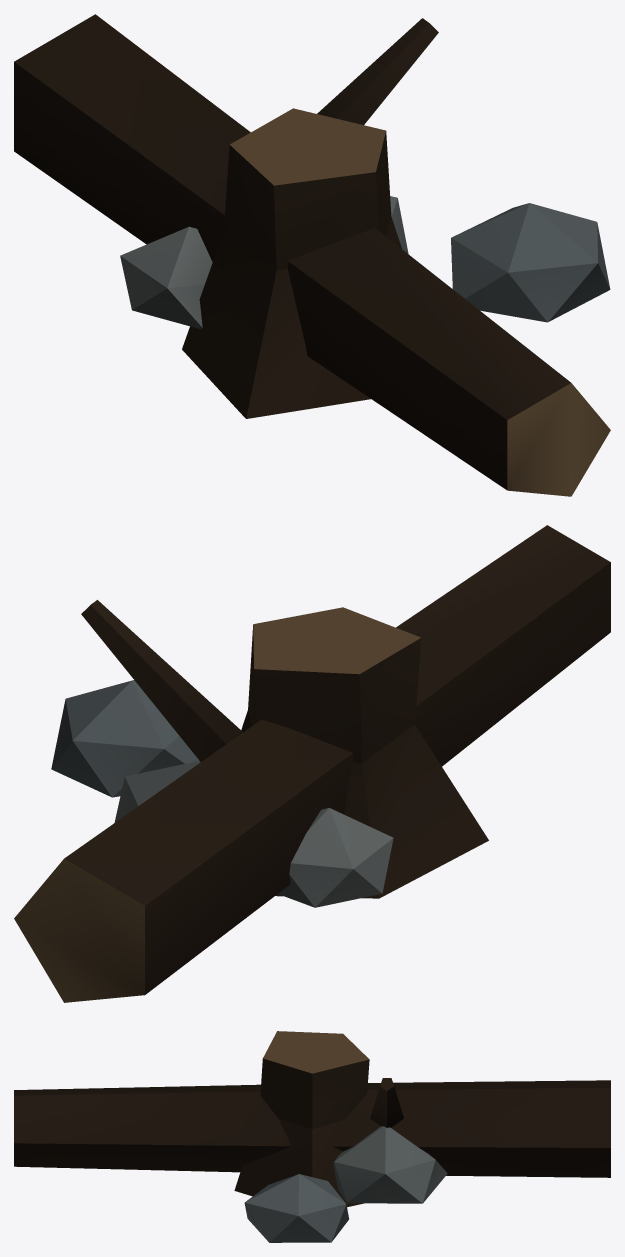
The model's file is debris_frost_lod1.glb.
3 views of the same model, one above another, from view 1: azimuth 30°, elevation 25°; view 2: azimuth 150°, elevation 25°; view 3: azimuth 270°, elevation 25° (orthographic). The views are drawn at different scales.
Parts seen in each view (by area): view 1: v1, v2, v0; view 2: v1, v2, v0; view 3: v1, v2, v0.
Boxes of the visible parts, <box> form: v1: <box>14,14,610,496</box>; v2: <box>182,108,401,418</box>; v0: <box>120,196,610,329</box>; v1: <box>14,525,610,1002</box>; v2: <box>241,607,488,898</box>; v0: <box>51,680,393,907</box>; v1: <box>14,1078,610,1177</box>; v2: <box>234,1031,369,1207</box>; v0: <box>244,1126,447,1242</box>.
Bounding box in the file's own units: 0.3765 × 0.2282 × 0.8.
